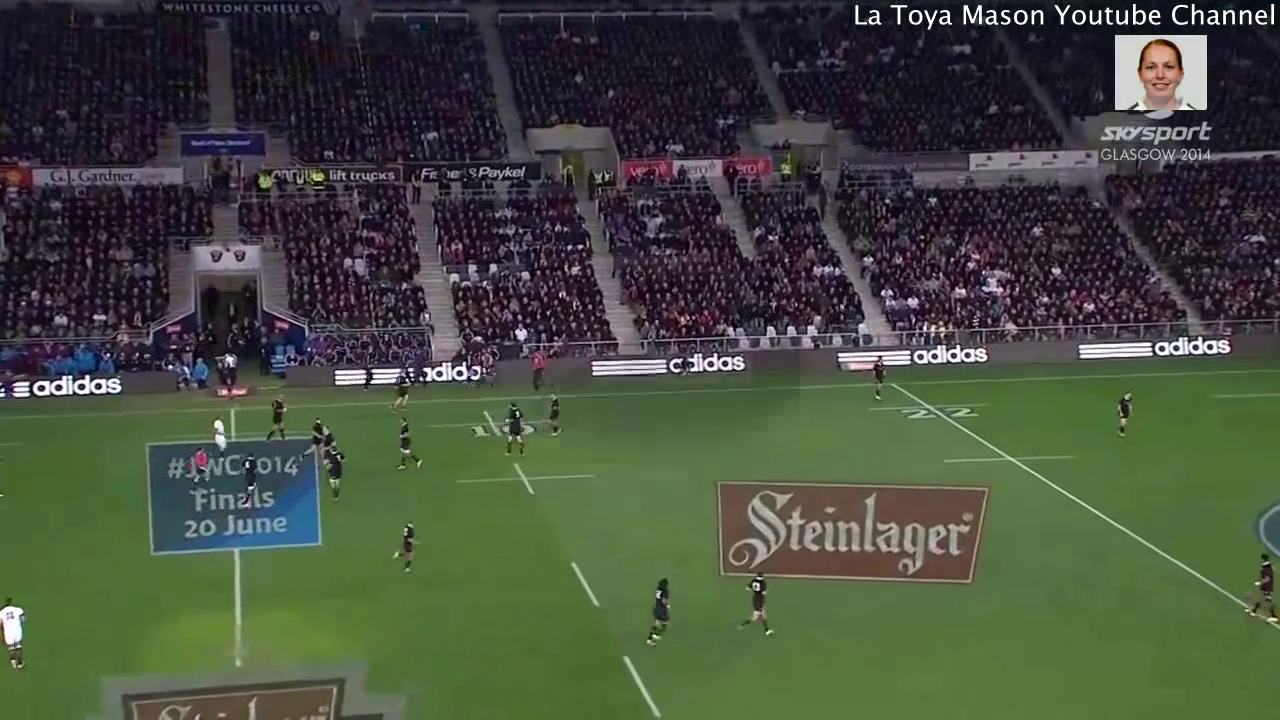10_metre: (454, 460, 600, 505), (417, 404, 564, 444)
player: (732, 564, 784, 644), (637, 572, 680, 655), (1, 587, 37, 673), (1245, 552, 1280, 633), (385, 416, 426, 480), (386, 513, 421, 584), (257, 388, 289, 456), (497, 398, 529, 463), (315, 442, 348, 505), (383, 370, 418, 422), (1107, 383, 1140, 438), (234, 448, 265, 504), (863, 352, 892, 408), (301, 408, 327, 464), (204, 413, 229, 464), (186, 436, 209, 489), (543, 389, 566, 442), (314, 420, 335, 452)
